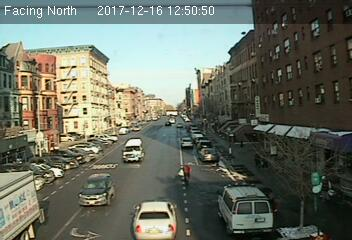bicycle: (176, 161, 193, 186)
car: (131, 201, 179, 240), (77, 172, 112, 206), (198, 146, 219, 161), (181, 137, 195, 147)
police: (214, 180, 274, 230)
truck: (123, 139, 145, 164)
